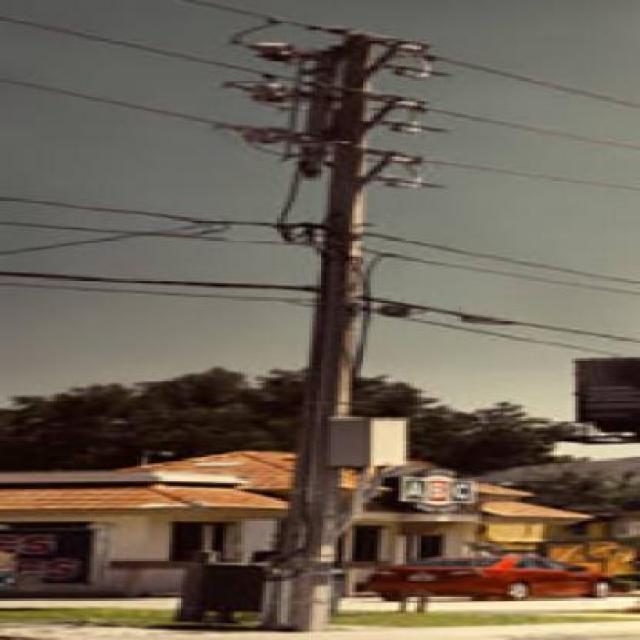pole: (202, 25, 516, 626)
